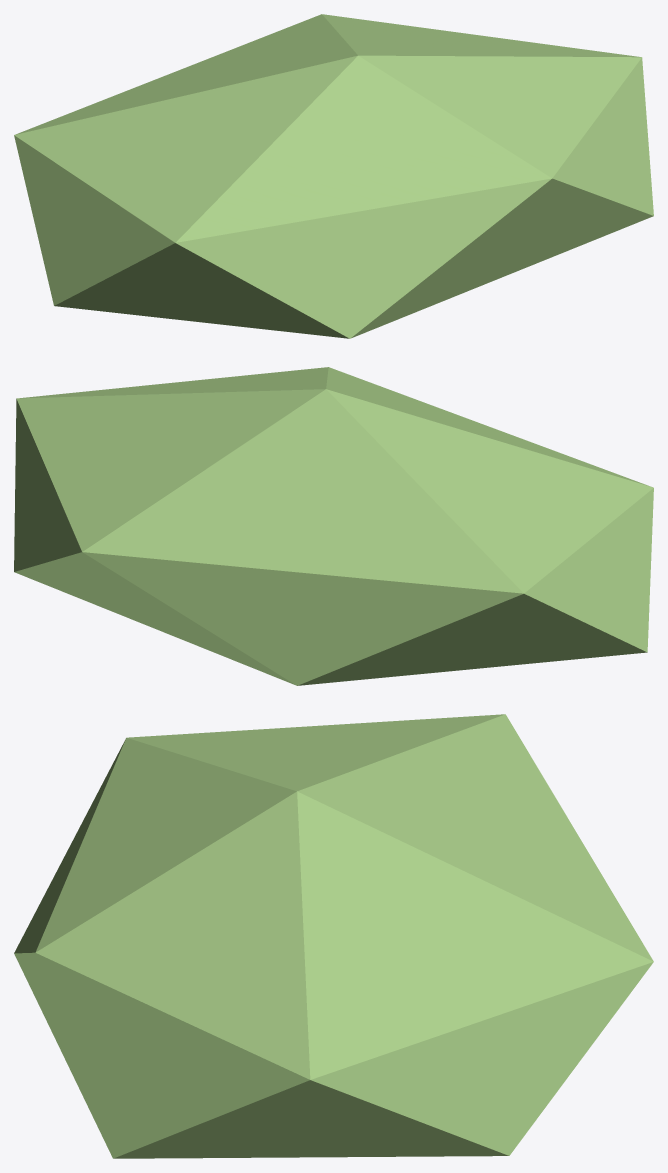
Rendered from Hill_A.fbx.
3 renders of one model, top to bottom at view 1: azimuth 30°, elevation 25°; view 2: azimuth 150°, elevation 25°; view 3: azimuth 270°, elevation 25°, orthographic. The views are drawn at different scales.
Parts seen in each view (by area): view 1: Hill_A_Mesh; view 2: Hill_A_Mesh; view 3: Hill_A_Mesh.
Boxes of the visible parts, bbox=[...] form: Hill_A_Mesh: bbox=[14, 14, 653, 338]; Hill_A_Mesh: bbox=[14, 367, 653, 685]; Hill_A_Mesh: bbox=[14, 714, 653, 1158].
Bounding box in the file's own units: 34.67 × 12.42 × 24.3.
